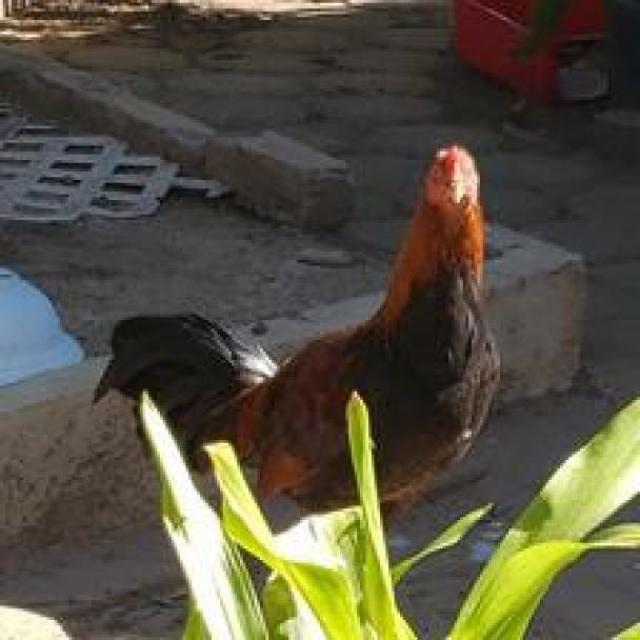Chicken: (109, 136, 514, 530)
